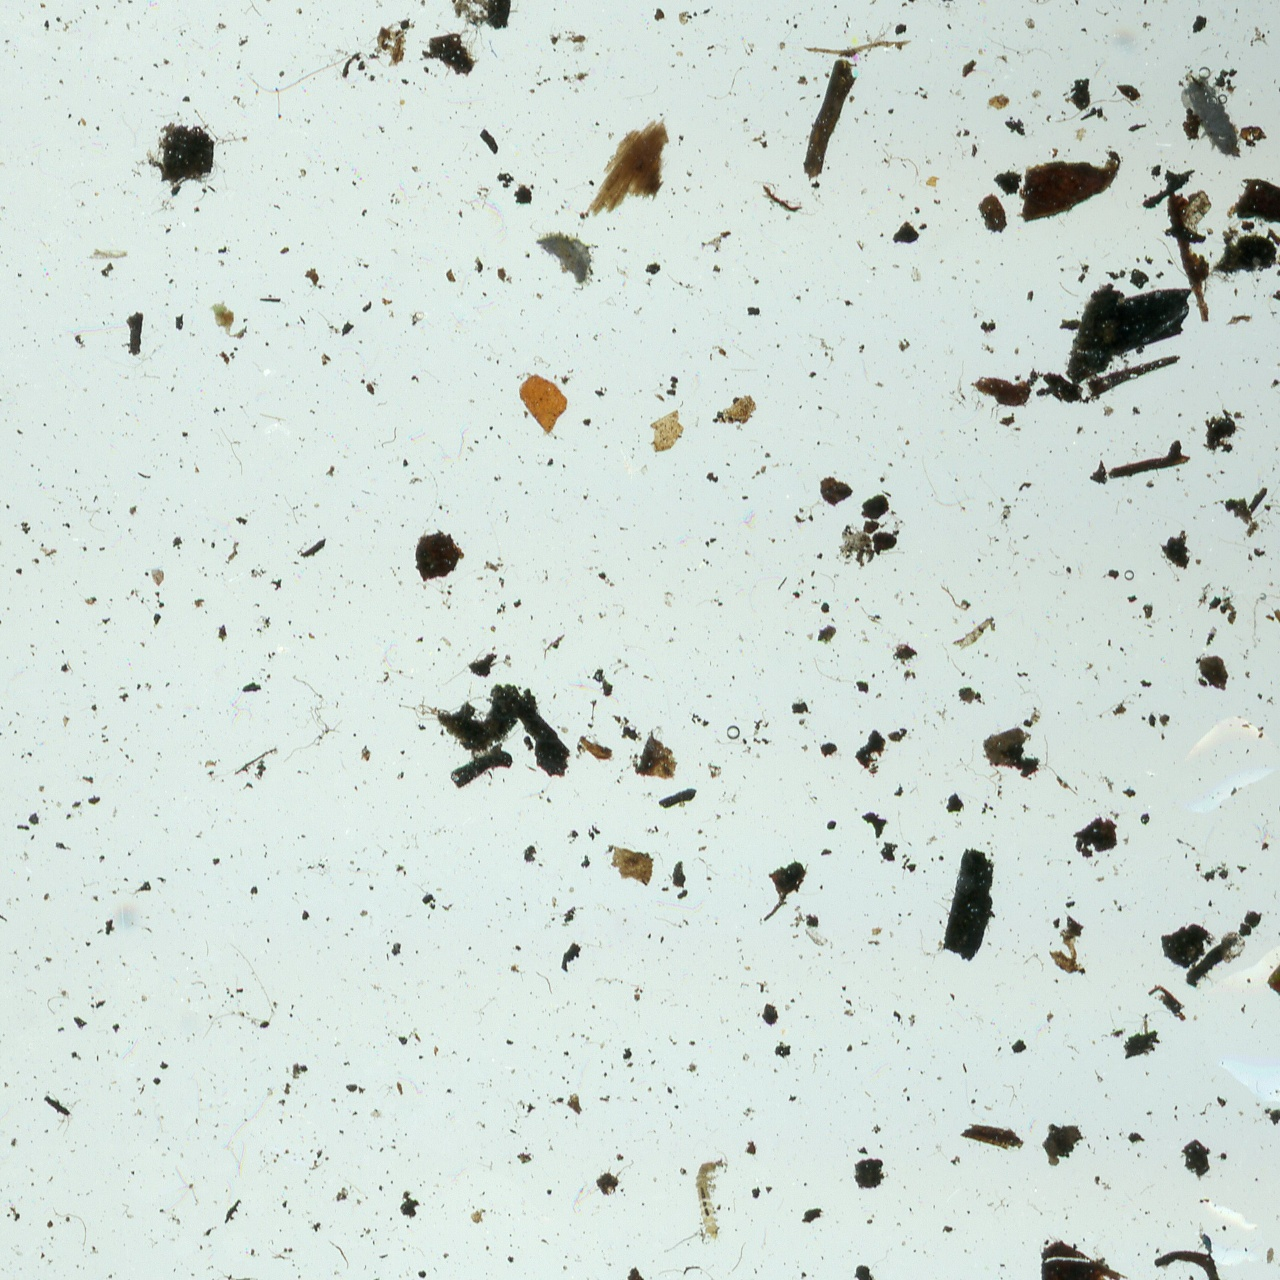arthropod: (530, 230, 599, 294), (695, 1161, 722, 1241)
